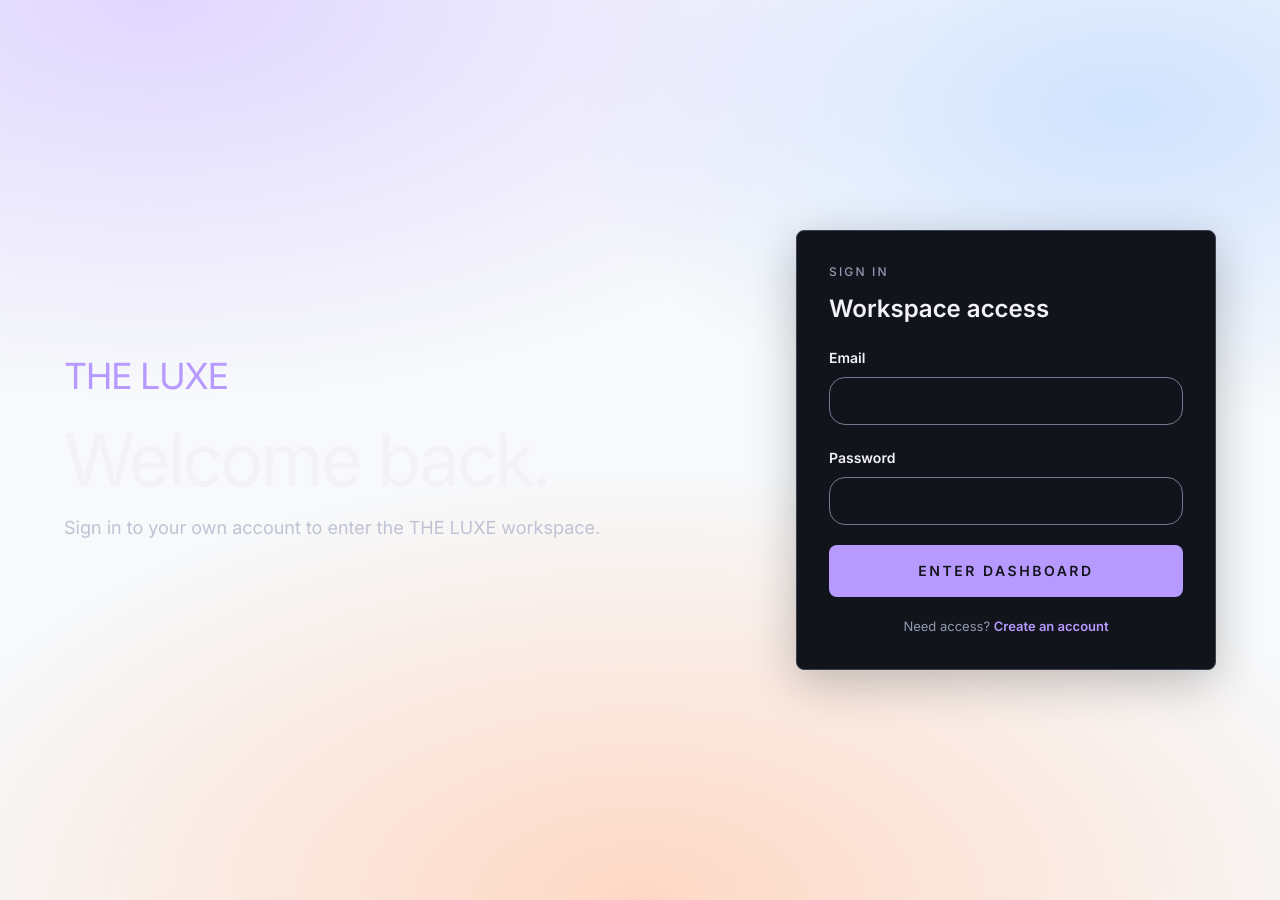
Scenario: AuthShell › keeps the form and entered credentials after a login error
Type "creator@example.test" into the field labelled "Email" at (1006, 401), box [829,377,1183,425]
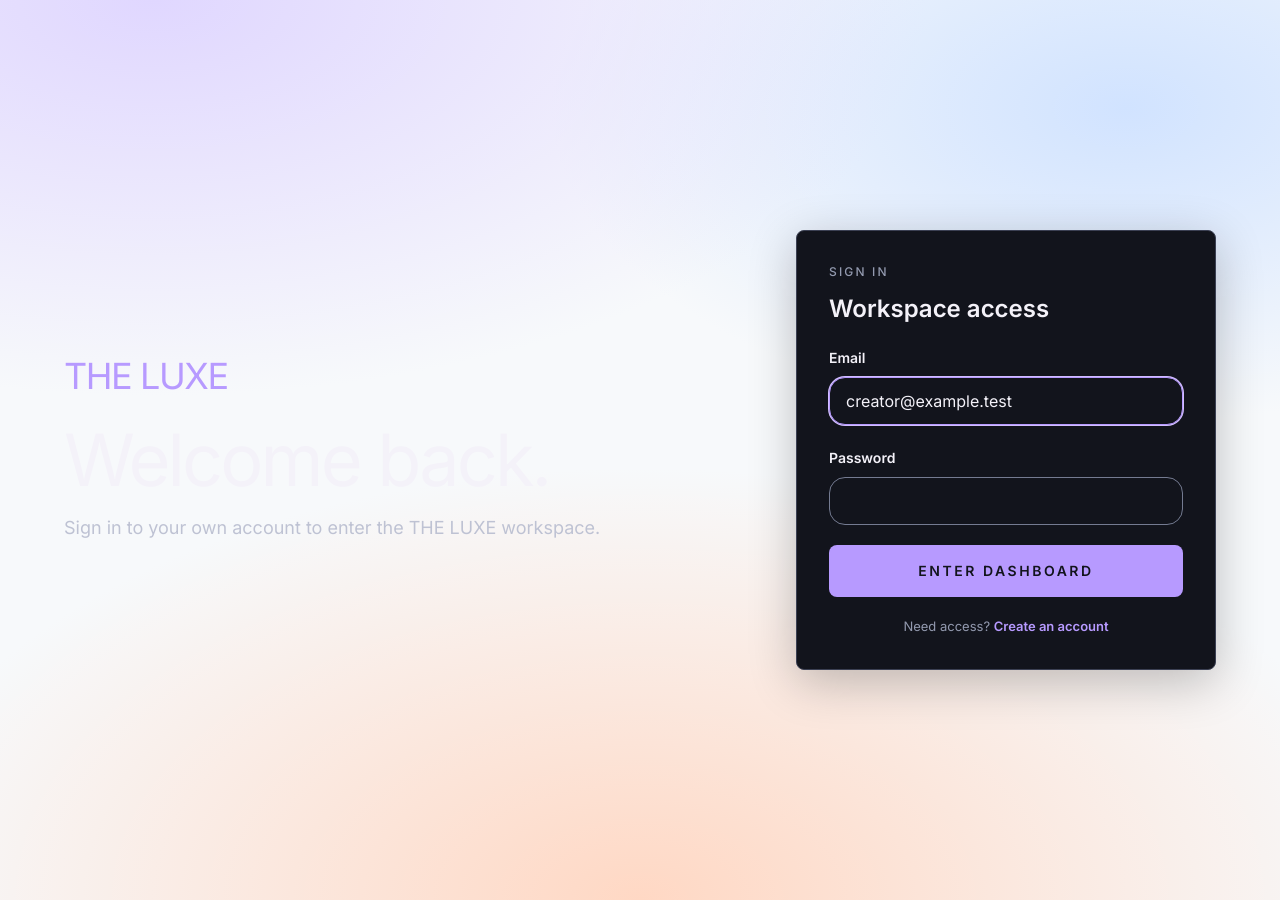
Type "synthetic-password" into the password field labelled "Password" at (1006, 501), box [829,477,1183,525]
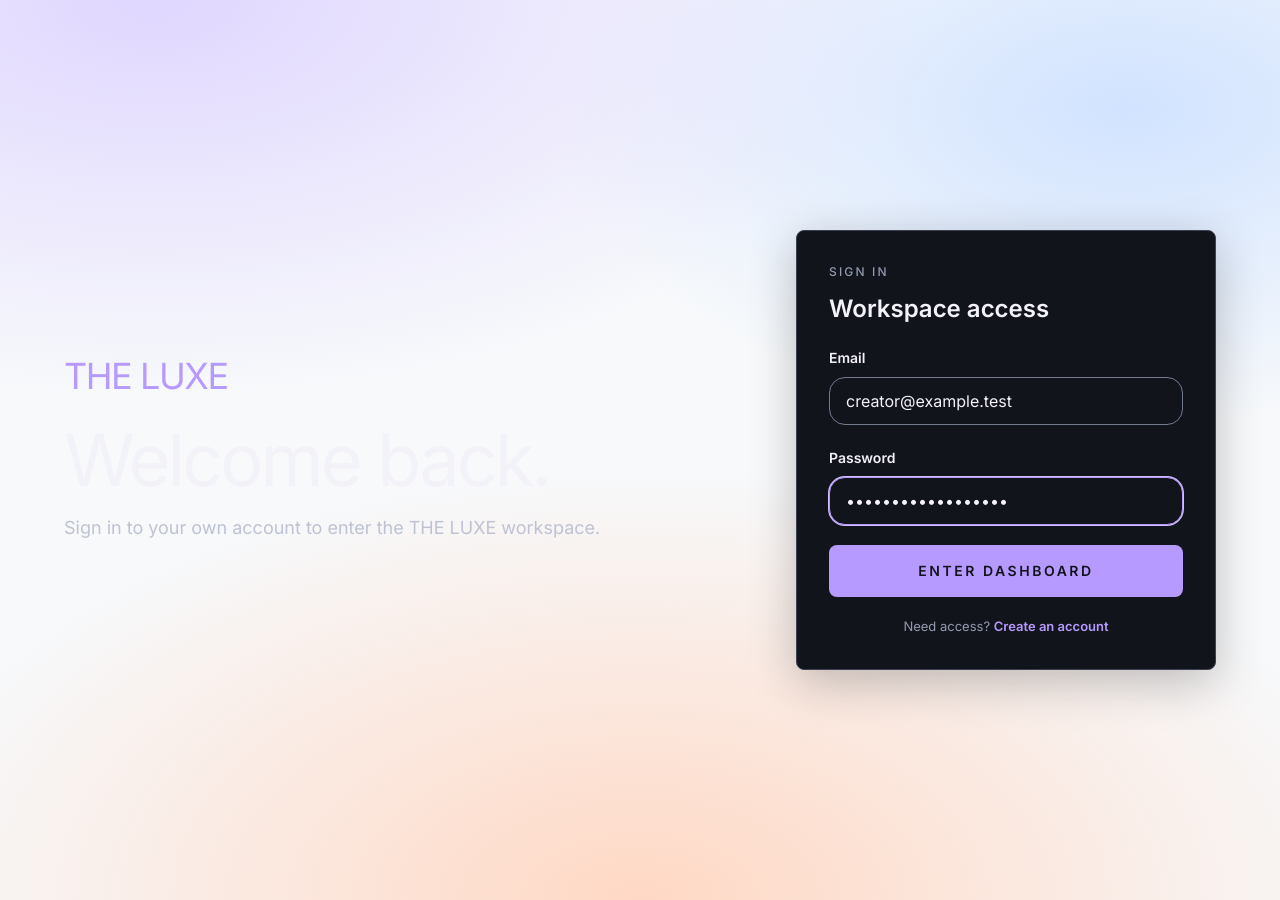
Click the button "Enter dashboard" at (1006, 571), box [829,545,1183,597]
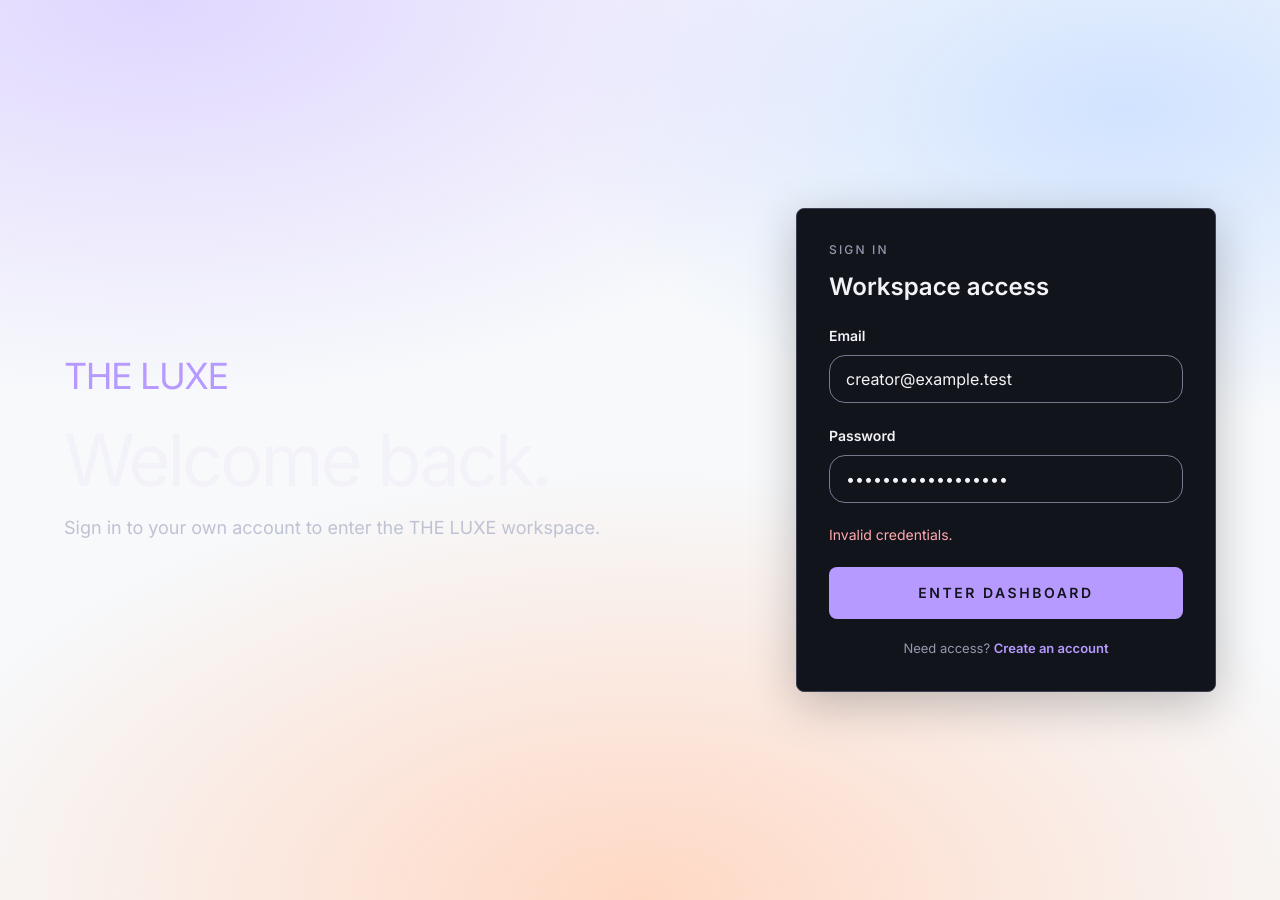
Result: the text "Invalid credentials." is shown at [829,526,953,543]
